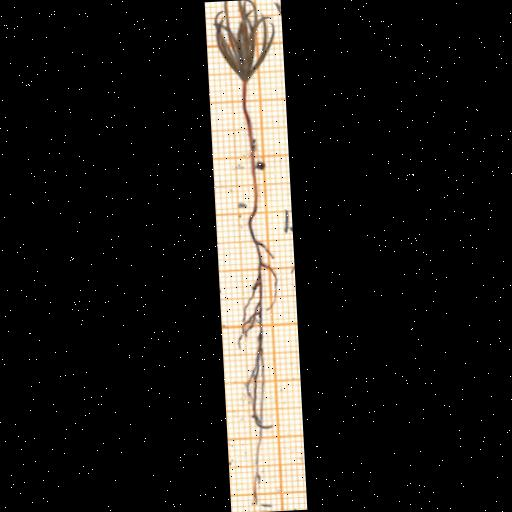flowerPinus: (215, 0, 276, 83)
rootPinus: (238, 209, 279, 503)
stemPinus: (241, 82, 258, 208)
